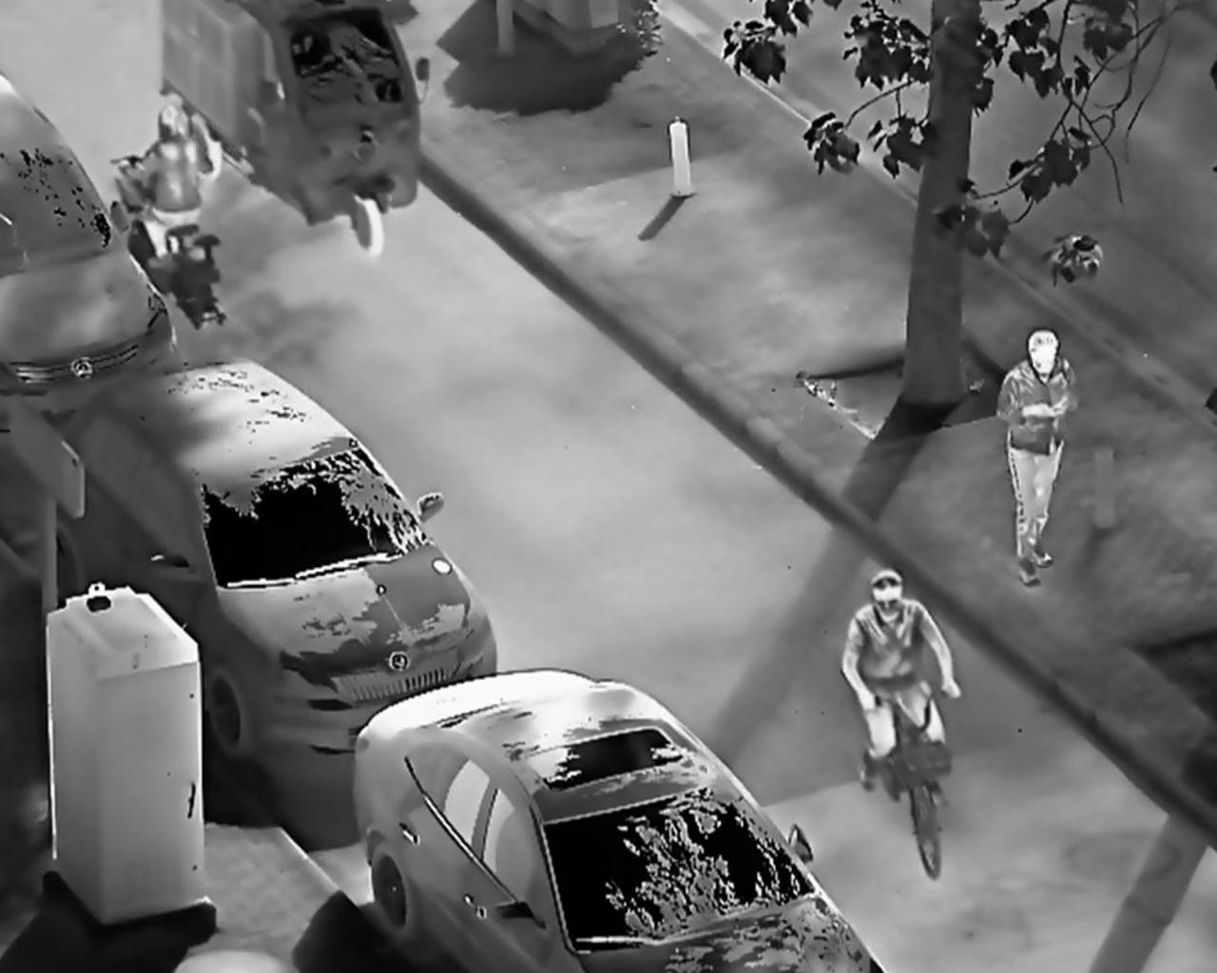person: (841, 563, 969, 794), (995, 324, 1073, 597), (119, 100, 219, 262)
